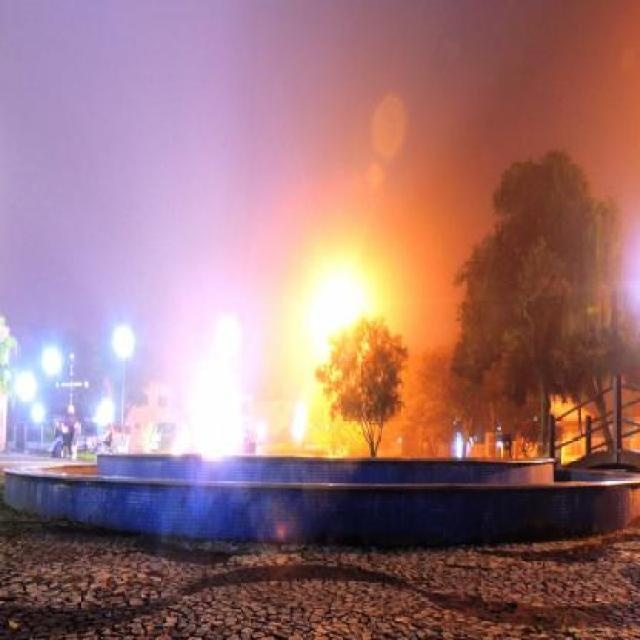obstacle: (46, 417, 62, 458), (65, 402, 77, 456)
